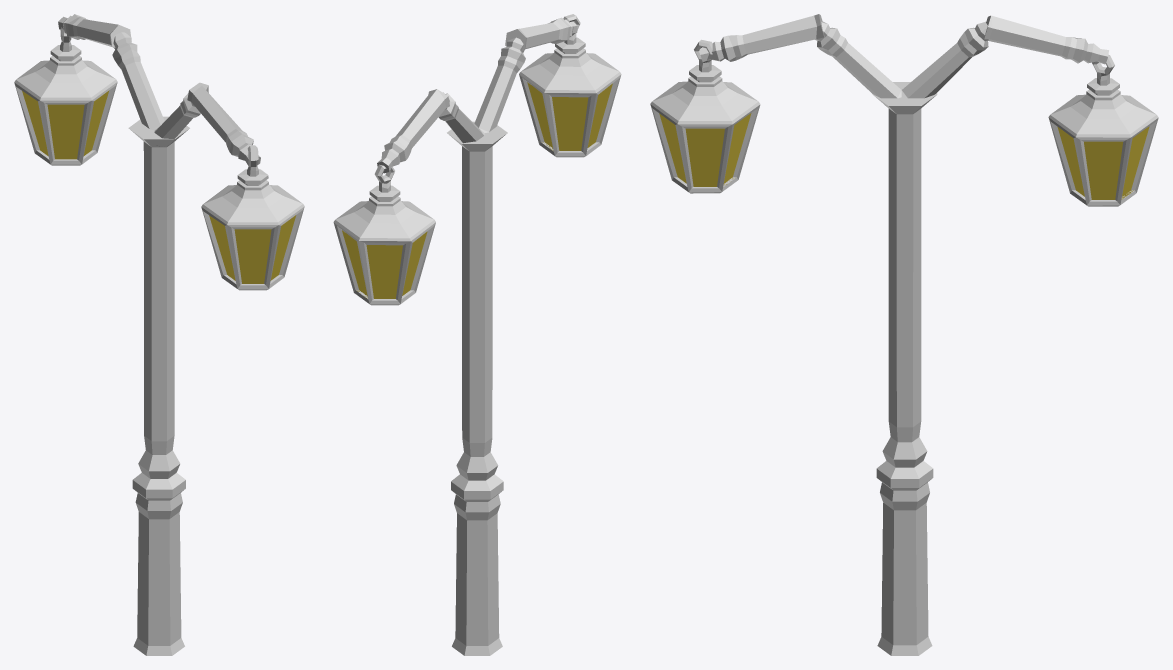
Rendered from lantern_stand_2way.fbx.
The picture shows the model from 3 angles, left to right: view 1: azimuth 30°, elevation 25°; view 2: azimuth 150°, elevation 25°; view 3: azimuth 270°, elevation 25°; orthographic projection. The views are drawn at different scales.
Visible parts, largest first — view 1: Cylinder.002; view 2: Cylinder.002; view 3: Cylinder.002.
Boxes of the visible parts, x1,y1,x2,y2 form: Cylinder.002: (14, 14, 304, 655); Cylinder.002: (333, 14, 621, 655); Cylinder.002: (650, 14, 1158, 655).
Size of the model in its own units: 163 by 1180 by 861.
